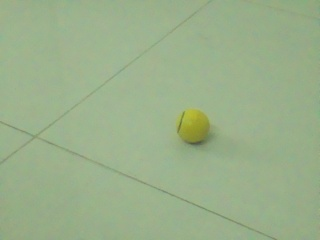ball: (176, 109, 209, 142)
